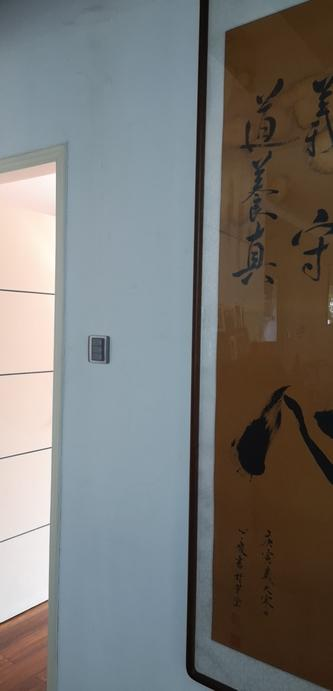switch: (83, 333, 109, 363)
